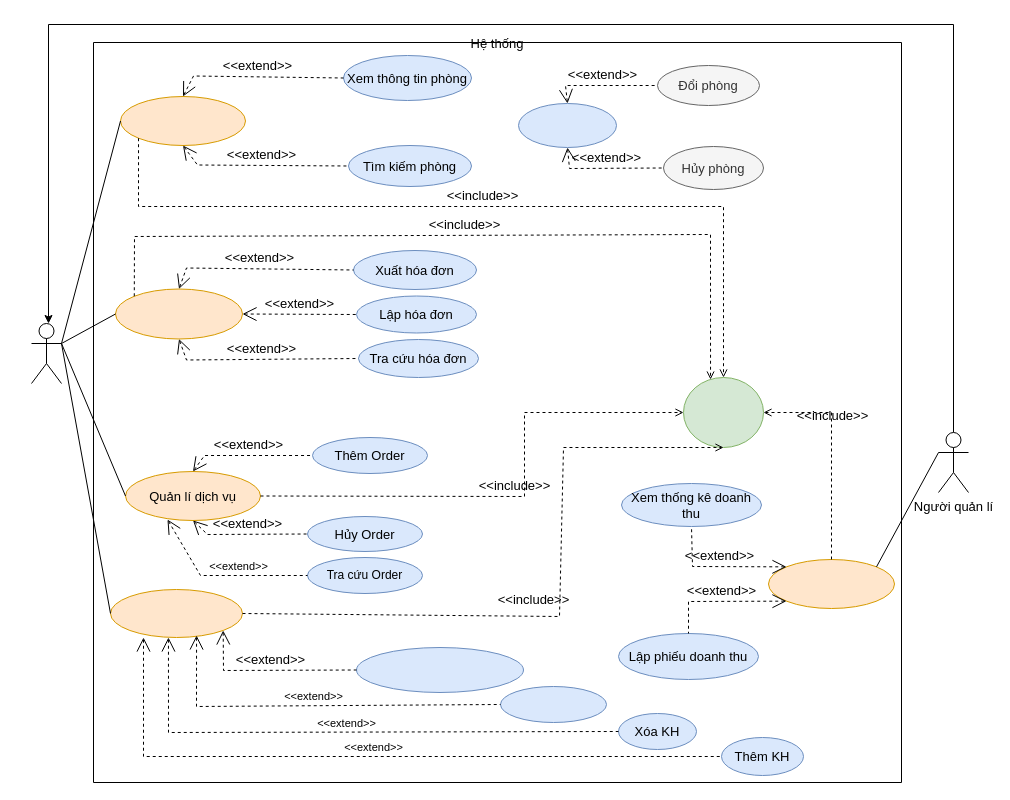
The diagram is 1010 pixels wide and 800 high, and some of its shapes have lost their labels. Here are the shapes that lost their labels. From the top down, the centre of each, then its label:
At pixel 183 121: "Quản lí phòng".
At pixel 567 125: "Đặt phòng".
At pixel 178 313: "Quản lí đặt phòng".
At pixel 46 353: "Nhân viên lễ tân".
At pixel 723 412: "Đăng nhập".
At pixel 831 583: "Quản lí thống kê".
At pixel 176 613: "Quản lí khách hàng".
At pixel 440 669: "Cập nhật thông tin KH".
At pixel 553 704: "Tìm kiếm KH".
